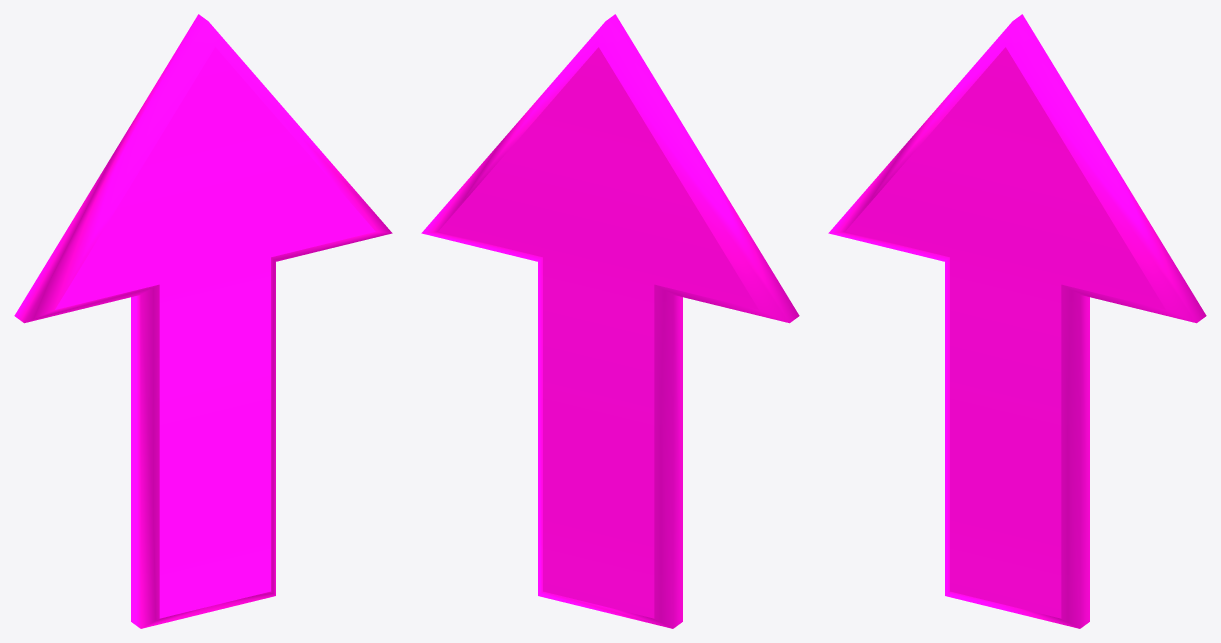
Rendered from 46702d23-c67e-4c85-a222-13e3e775bfe3.glb.
3 renders of one model, left to right at view 1: azimuth 30°, elevation 25°; view 2: azimuth 150°, elevation 25°; view 3: azimuth 330°, elevation 25°, orthographic.
Visible parts, largest first — view 1: IndicatorArrowUpPink; view 2: IndicatorArrowUpPink; view 3: IndicatorArrowUpPink.
Part boxes in pixels (<box>): IndicatorArrowUpPink: <box>14,14,392,628</box>; IndicatorArrowUpPink: <box>421,14,799,628</box>; IndicatorArrowUpPink: <box>828,14,1206,628</box>.
Size of the model in its own units: 0.45 by 0.69 by 0.05.
Materials: 1 (1 with a texture image).
